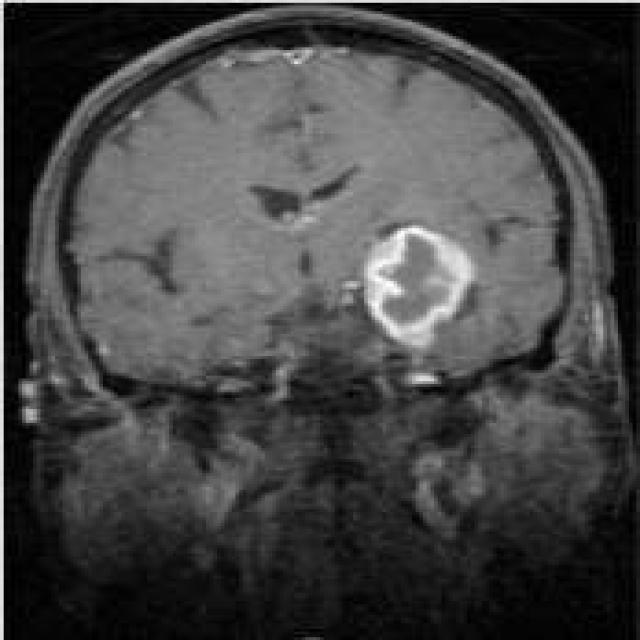meningioma: (360, 225, 478, 359)
